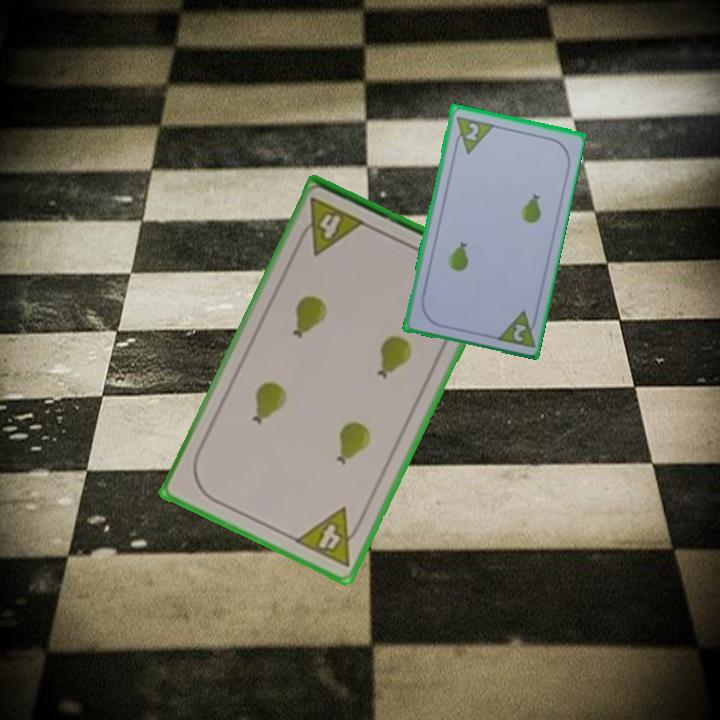2p: (492, 307, 541, 350), (450, 112, 495, 156)
4p: (291, 503, 368, 571), (293, 194, 368, 258)
